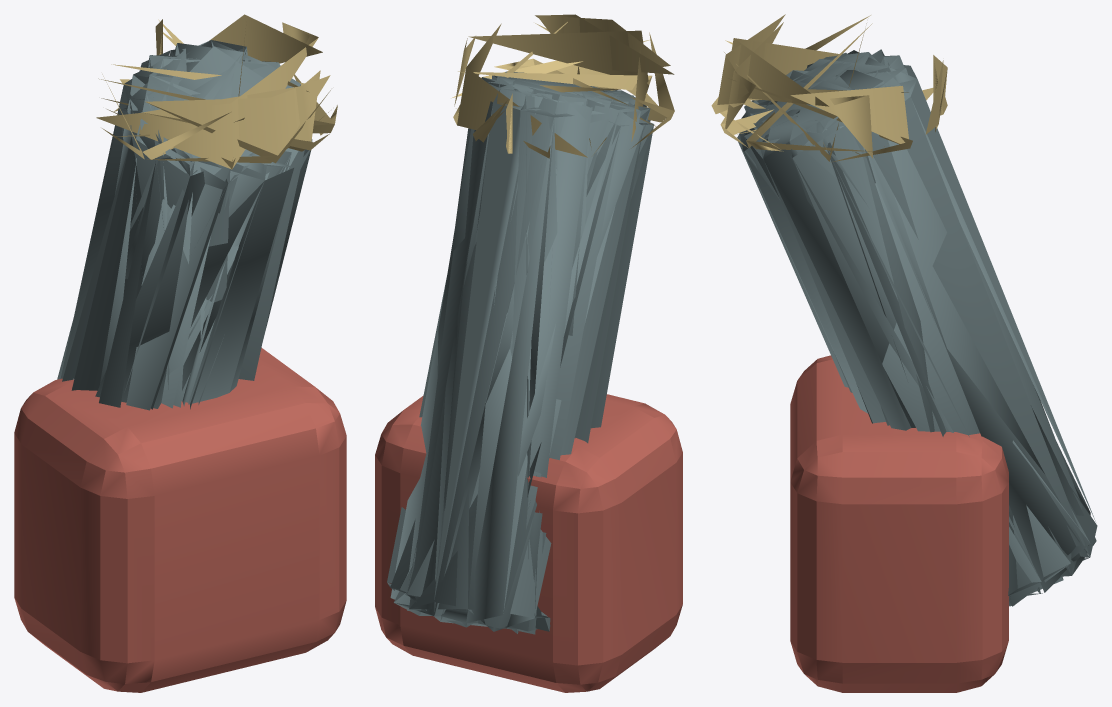
File: kit_mortar.glb
3 views of the same model, side by side, from view 1: azimuth 30°, elevation 25°; view 2: azimuth 150°, elevation 25°; view 3: azimuth 270°, elevation 25° (orthographic). The views are drawn at different scales.
Visible parts, largest first — view 1: LauncherPack, LauncherTube, LauncherRim; view 2: LauncherTube, LauncherPack, LauncherRim; view 3: LauncherTube, LauncherPack, LauncherRim.
Boxes of the visible parts, <box> form: LauncherPack: <box>14,347,346,692</box>; LauncherTube: <box>57,40,312,410</box>; LauncherRim: <box>96,14,337,169</box>; LauncherTube: <box>387,71,654,634</box>; LauncherPack: <box>375,394,682,692</box>; LauncherRim: <box>451,14,674,158</box>; LauncherTube: <box>737,49,1097,606</box>; LauncherPack: <box>790,355,1008,692</box>; LauncherRim: <box>711,14,947,162</box>.
Bounding box in the file's own units: 0.33 × 0.75 × 0.4412.
